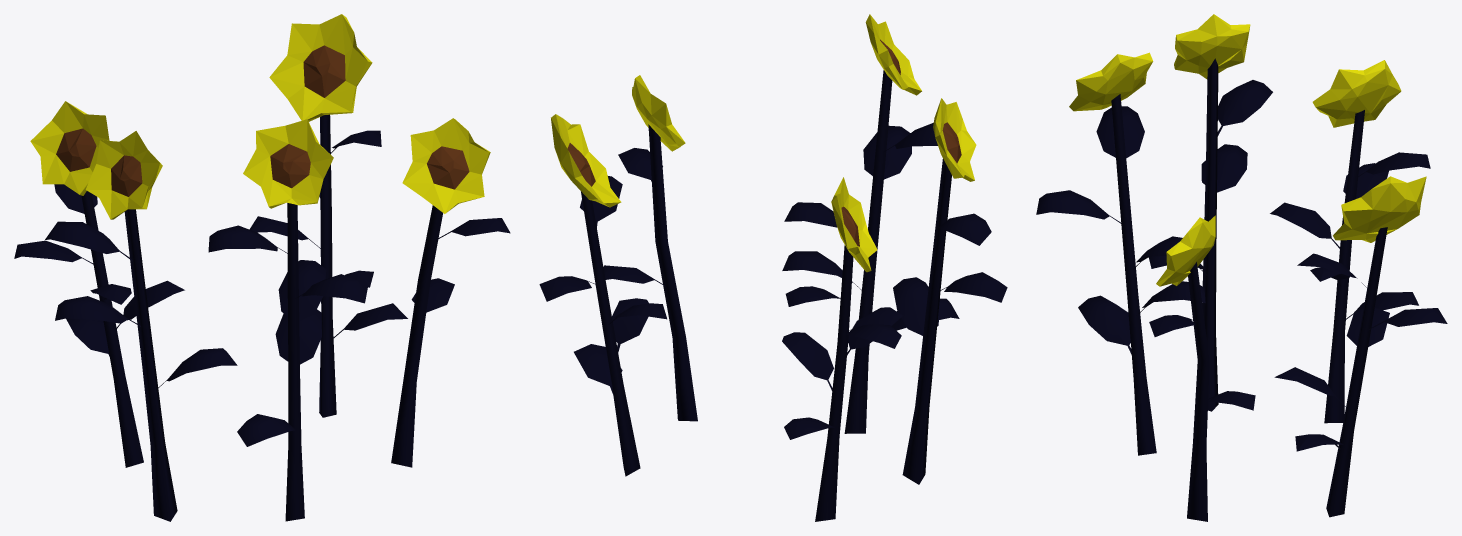
The model's file is PatchSunflower01.fbx.
3 renders of one model, left to right at view 1: azimuth 30°, elevation 25°; view 2: azimuth 150°, elevation 25°; view 3: azimuth 270°, elevation 25°, orthographic. The views are drawn at different scales.
Visible parts, largest first — view 1: PatchSunflower01; view 2: PatchSunflower01; view 3: PatchSunflower01.
Part boxes in pixels (left/top/right/bottom): PatchSunflower01: left=14, top=14, right=510, bottom=521; PatchSunflower01: left=539, top=14, right=1007, bottom=521; PatchSunflower01: left=1036, top=14, right=1447, bottom=521.
Bounding box in the file's own units: 135 × 127 × 119.
